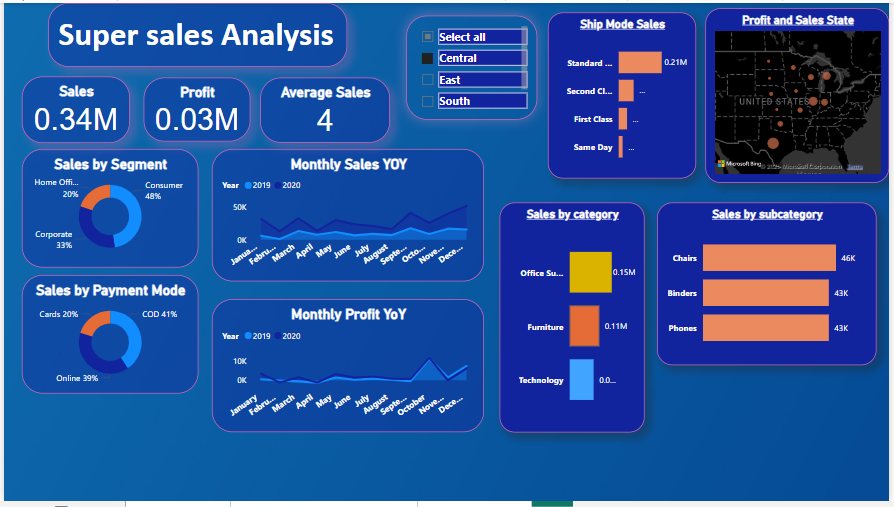

The page's visual inventory and layout, read from the dashboard file:
{"tool":"powerbi","page":{"name":"Dashboard","canvas":[1280,720],"ordinal":0},"visuals":[{"type":"clusteredBarChart","title":"Sales by category","fields":{"Category":["Sheet1.Category"],"Y":["Sum(Sheet1.Sales)"]},"box":[717.1,277.1,211.4,211.4],"z":0},{"type":"clusteredBarChart","title":"Sales by subcategory","fields":{"Category":["Sheet1.Sub-Category"],"Y":["Sum(Sheet1.Sales)"]},"box":[944.3,288.6,250,157.1],"z":1000},{"type":"clusteredBarChart","title":"Ship Mode Sales","fields":{"Y":["Sum(Sheet1.Sales)"],"Category":["Sheet1.Ship Mode"]},"box":[786,14,214,240],"z":2000},{"type":"stackedAreaChart","title":"Monthly Profit YoY","fields":{"Category":["Sheet1.Order Date.Variation.Date Hierarchy.Month","Sheet1.Order Date.Variation.Date Hierarchy.Day"],"Series":["Sheet1.Order Date.Variation.Date Hierarchy.Year"],"Y":["Sum(Sheet1.Profit)"]},"box":[300,427.5,393.8,192.5],"z":3000},{"type":"stackedAreaChart","title":"Monthly Sales YOY","fields":{"Category":["Sheet1.Order Date.Variation.Date Hierarchy.Month","Sheet1.Order Date.Variation.Date Hierarchy.Day"],"Series":["Sheet1.Order Date.Variation.Date Hierarchy.Year"],"Y":["Sum(Sheet1.Sales)"]},"box":[300,211.2,393.8,191.2],"z":4000},{"type":"map","title":"Profit and Sales State","fields":{"Category":["Sheet1.State"],"Size":["Sum(Sheet1.Sales)"]},"box":[1014,8,266,252],"z":5000},{"type":"donutChart","title":"Sales by Segment","fields":{"Category":["Sheet1.Segment"],"Y":["Sum(Sheet1.Sales)"]},"box":[26.2,211.2,255,171.2],"z":6000},{"type":"donutChart","title":"Sales by Payment Mode","fields":{"Category":["Sheet1.Payment Mode"],"Y":["Sum(Sheet1.Sales)"]},"box":[26.2,392.5,255,171.2],"z":7000},{"type":"slicer","fields":{"Values":["Sheet1.Region"]},"box":[582,18,190,150],"z":8000},{"type":"textbox","box":[63.8,0,433.8,92.5],"z":9000},{"type":"card","title":"Sales","fields":{"Values":["Sum(Sheet1.Sales)"]},"box":[26,106,156,96],"z":10000},{"type":"card","title":"Profit","fields":{"Values":["Sum(Sheet1.Profit)"]},"box":[202,108,154,92],"z":11000},{"type":"card","title":"Average Sales","fields":{"Values":["Avg(Sheet1.Avg sales)"]},"box":[370,108,188,94],"z":12000}]}

Visuals, with their boxes in screenshot pixels (x1, y1, x2, y2), scaled from the page's 1280x720 canvas onto the 894x507 screenshot:
"Sales by category" clusteredBarChart: <bbox>501, 195, 648, 344</bbox>
"Sales by subcategory" clusteredBarChart: <bbox>660, 203, 834, 314</bbox>
"Ship Mode Sales" clusteredBarChart: <bbox>549, 10, 698, 179</bbox>
"Monthly Profit YoY" stackedAreaChart: <bbox>210, 301, 485, 437</bbox>
"Monthly Sales YOY" stackedAreaChart: <bbox>210, 149, 485, 283</bbox>
"Profit and Sales State" map: <bbox>708, 6, 893, 183</bbox>
"Sales by Segment" donutChart: <bbox>18, 149, 196, 269</bbox>
"Sales by Payment Mode" donutChart: <bbox>18, 276, 196, 397</bbox>
slicer - Sheet1.Region: <bbox>406, 13, 539, 118</bbox>
textbox: <bbox>45, 0, 348, 65</bbox>
"Sales" card: <bbox>18, 75, 127, 142</bbox>
"Profit" card: <bbox>141, 76, 249, 141</bbox>
"Average Sales" card: <bbox>258, 76, 390, 142</bbox>
